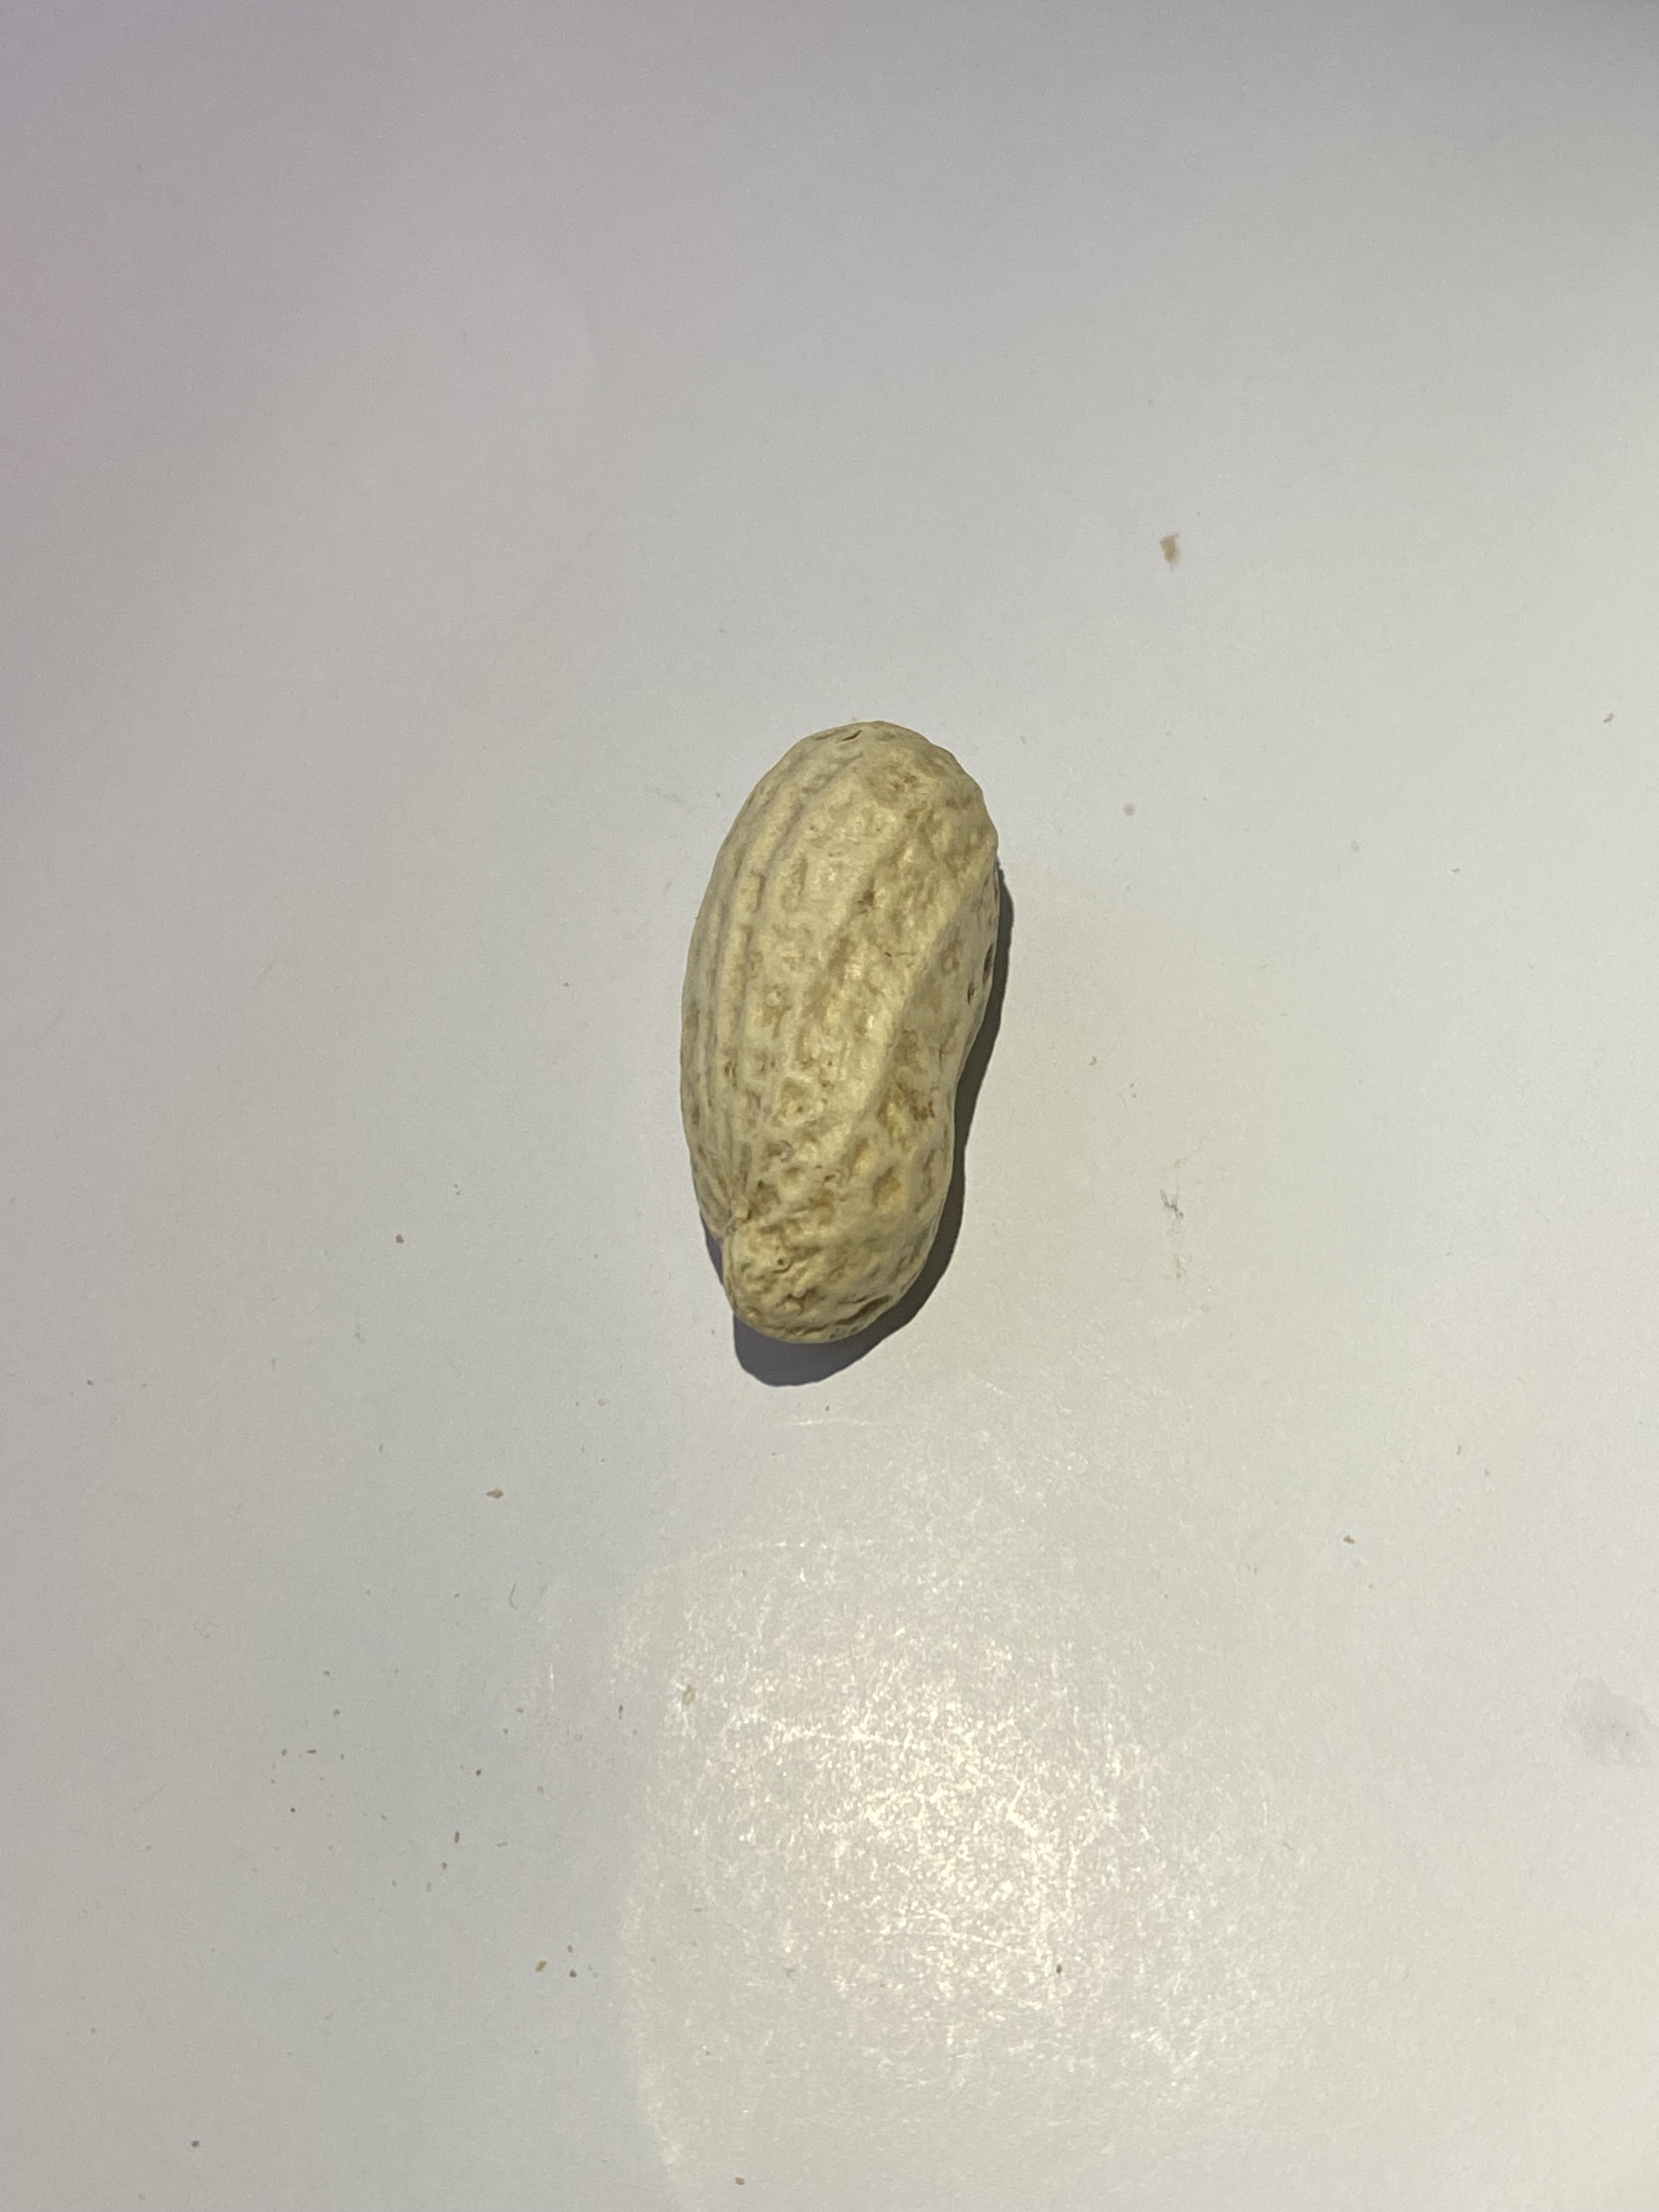kacang2: (615, 714, 1019, 1360)
